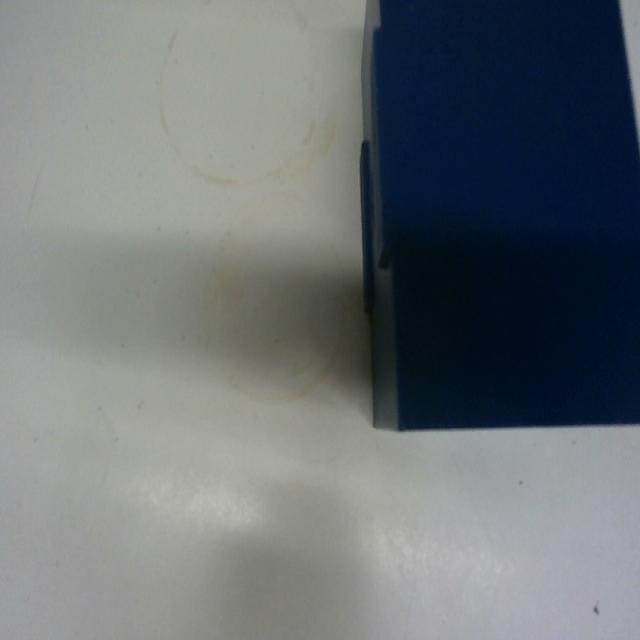Blue Cuboid: (356, 0, 639, 433)
